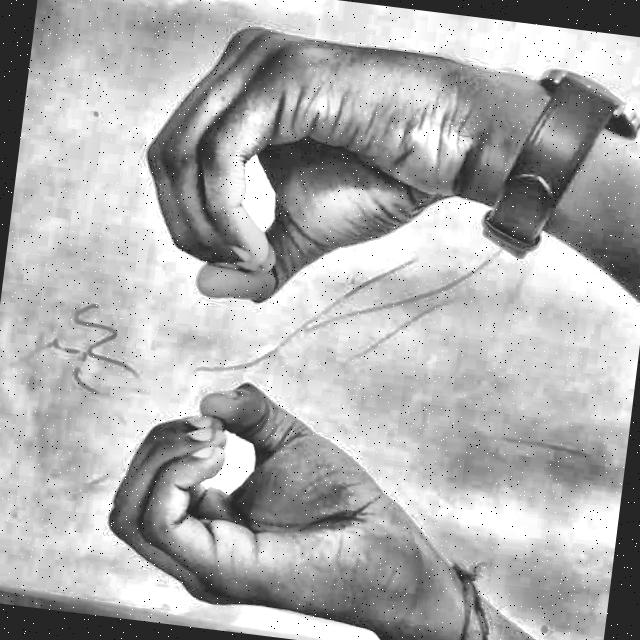Bisharga: (53, 0, 501, 640)
